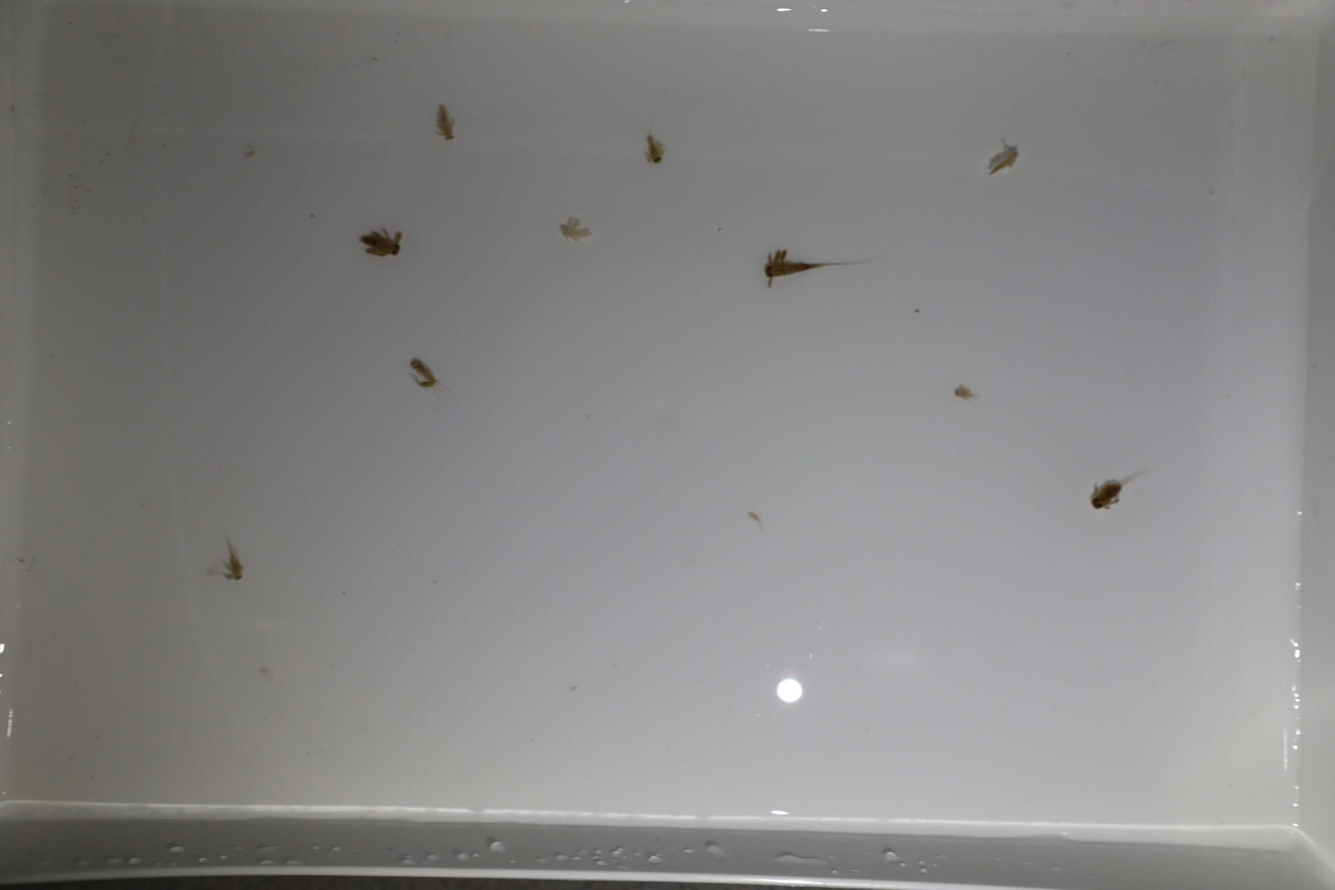Mayfly: (756, 244, 888, 292), (1080, 461, 1153, 510), (196, 514, 246, 581), (634, 121, 674, 173), (979, 139, 1024, 180), (405, 353, 446, 396), (353, 230, 411, 259), (552, 213, 603, 244), (431, 97, 457, 147)
